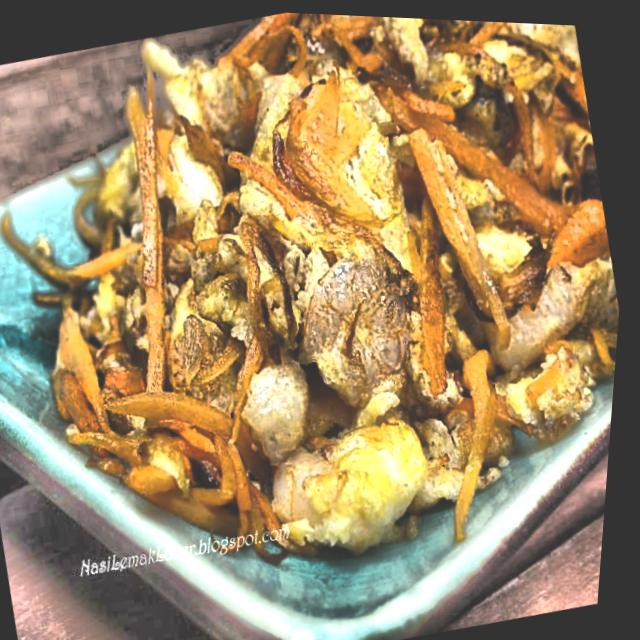Food: (0, 0, 640, 595)
